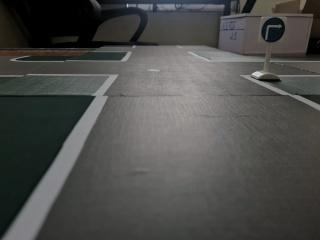right: (258, 13, 288, 48)
